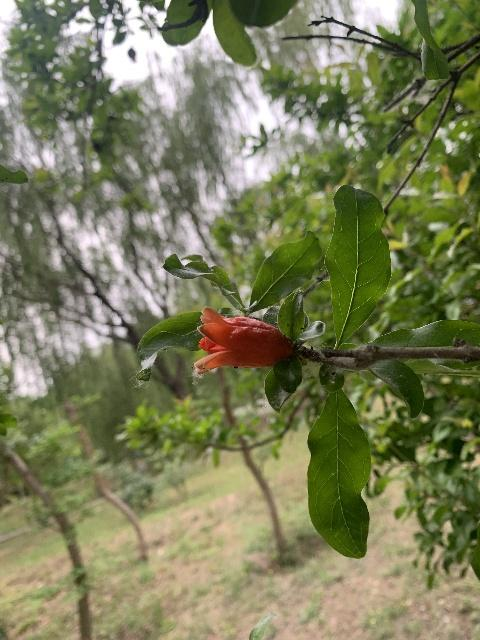flower: (195, 306, 294, 370)
